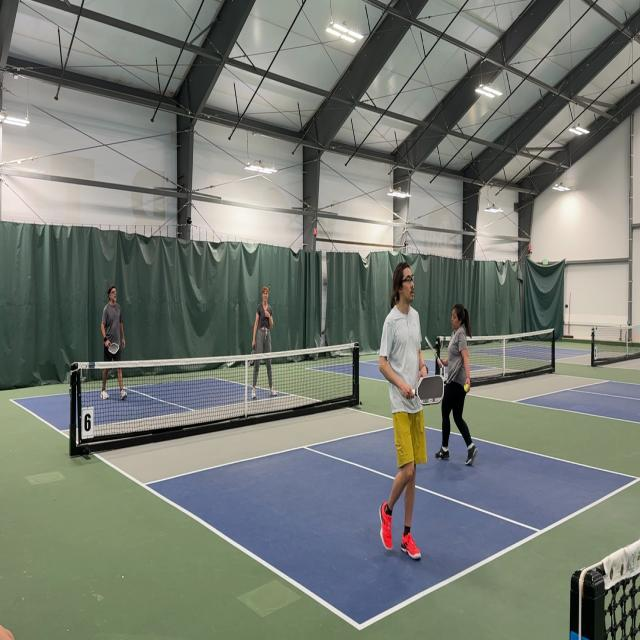ball: (463, 382, 470, 394)
